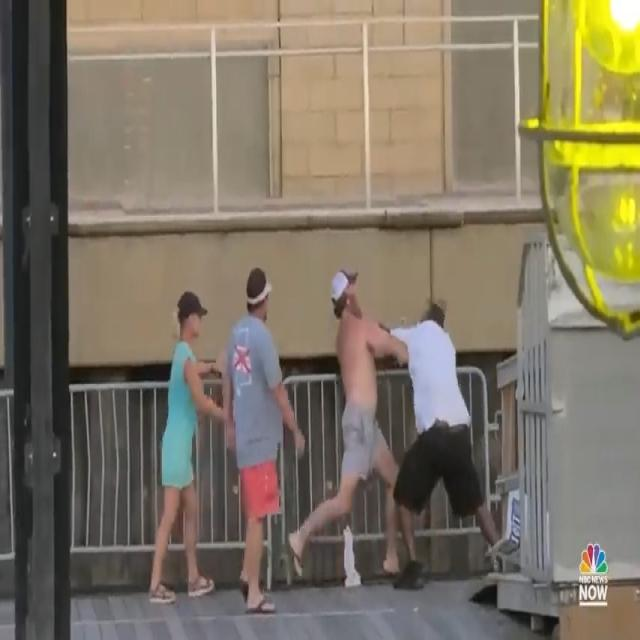fight: (291, 265, 501, 597)
non-fight: (146, 269, 304, 618)
